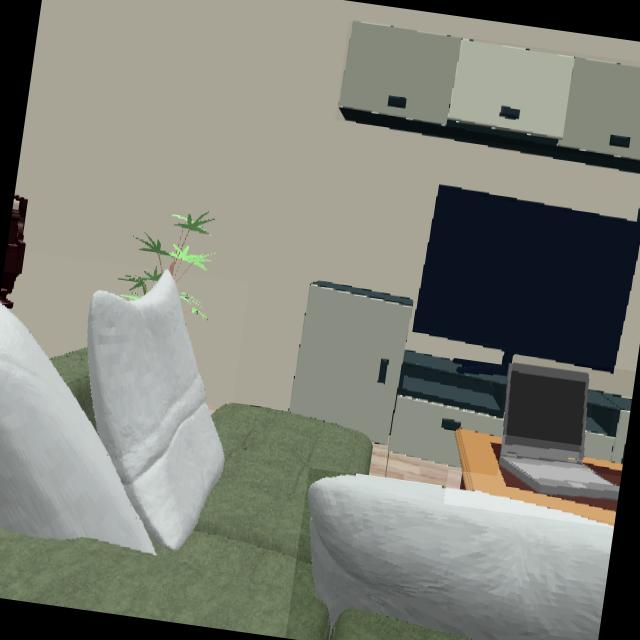cabinet: (338, 22, 640, 162), (289, 282, 506, 471), (584, 393, 632, 465)
laptop: (498, 355, 619, 500)
monitor: (411, 185, 640, 376)
pillow: (0, 271, 225, 558), (306, 475, 612, 640)
sofa: (0, 403, 372, 640)
table: (454, 430, 619, 527), (583, 458, 623, 475)
